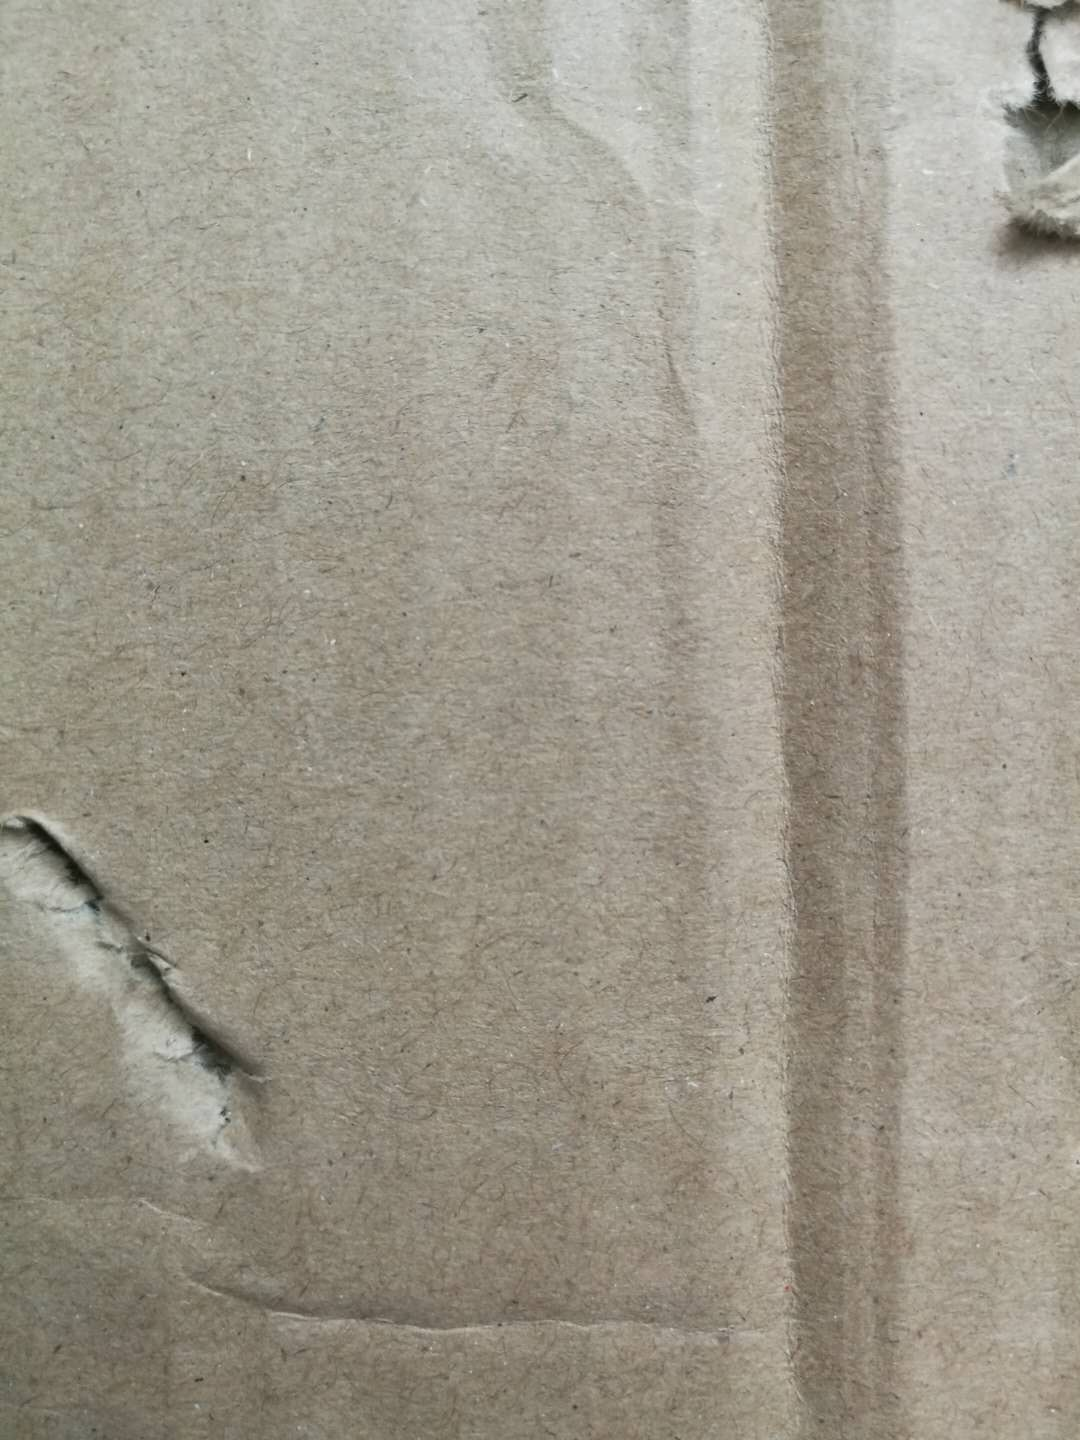defect: (623, 1, 986, 1440), (5, 766, 311, 1202), (152, 1219, 879, 1372), (940, 5, 1080, 285)
